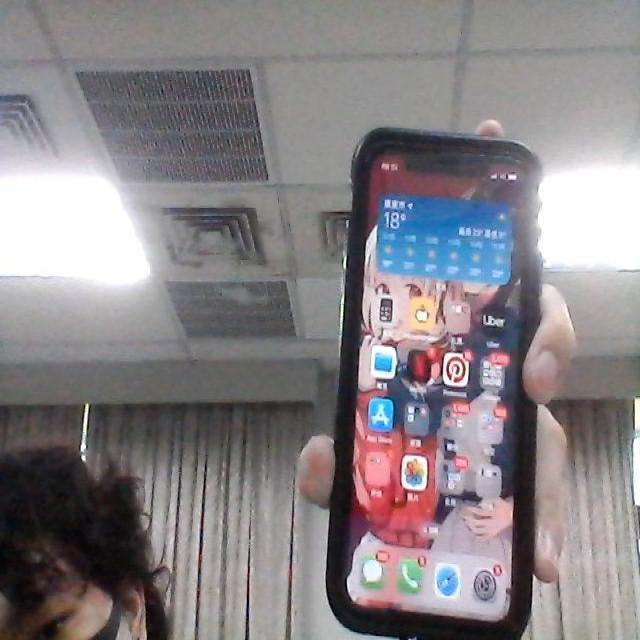phone: (319, 105, 549, 640)
